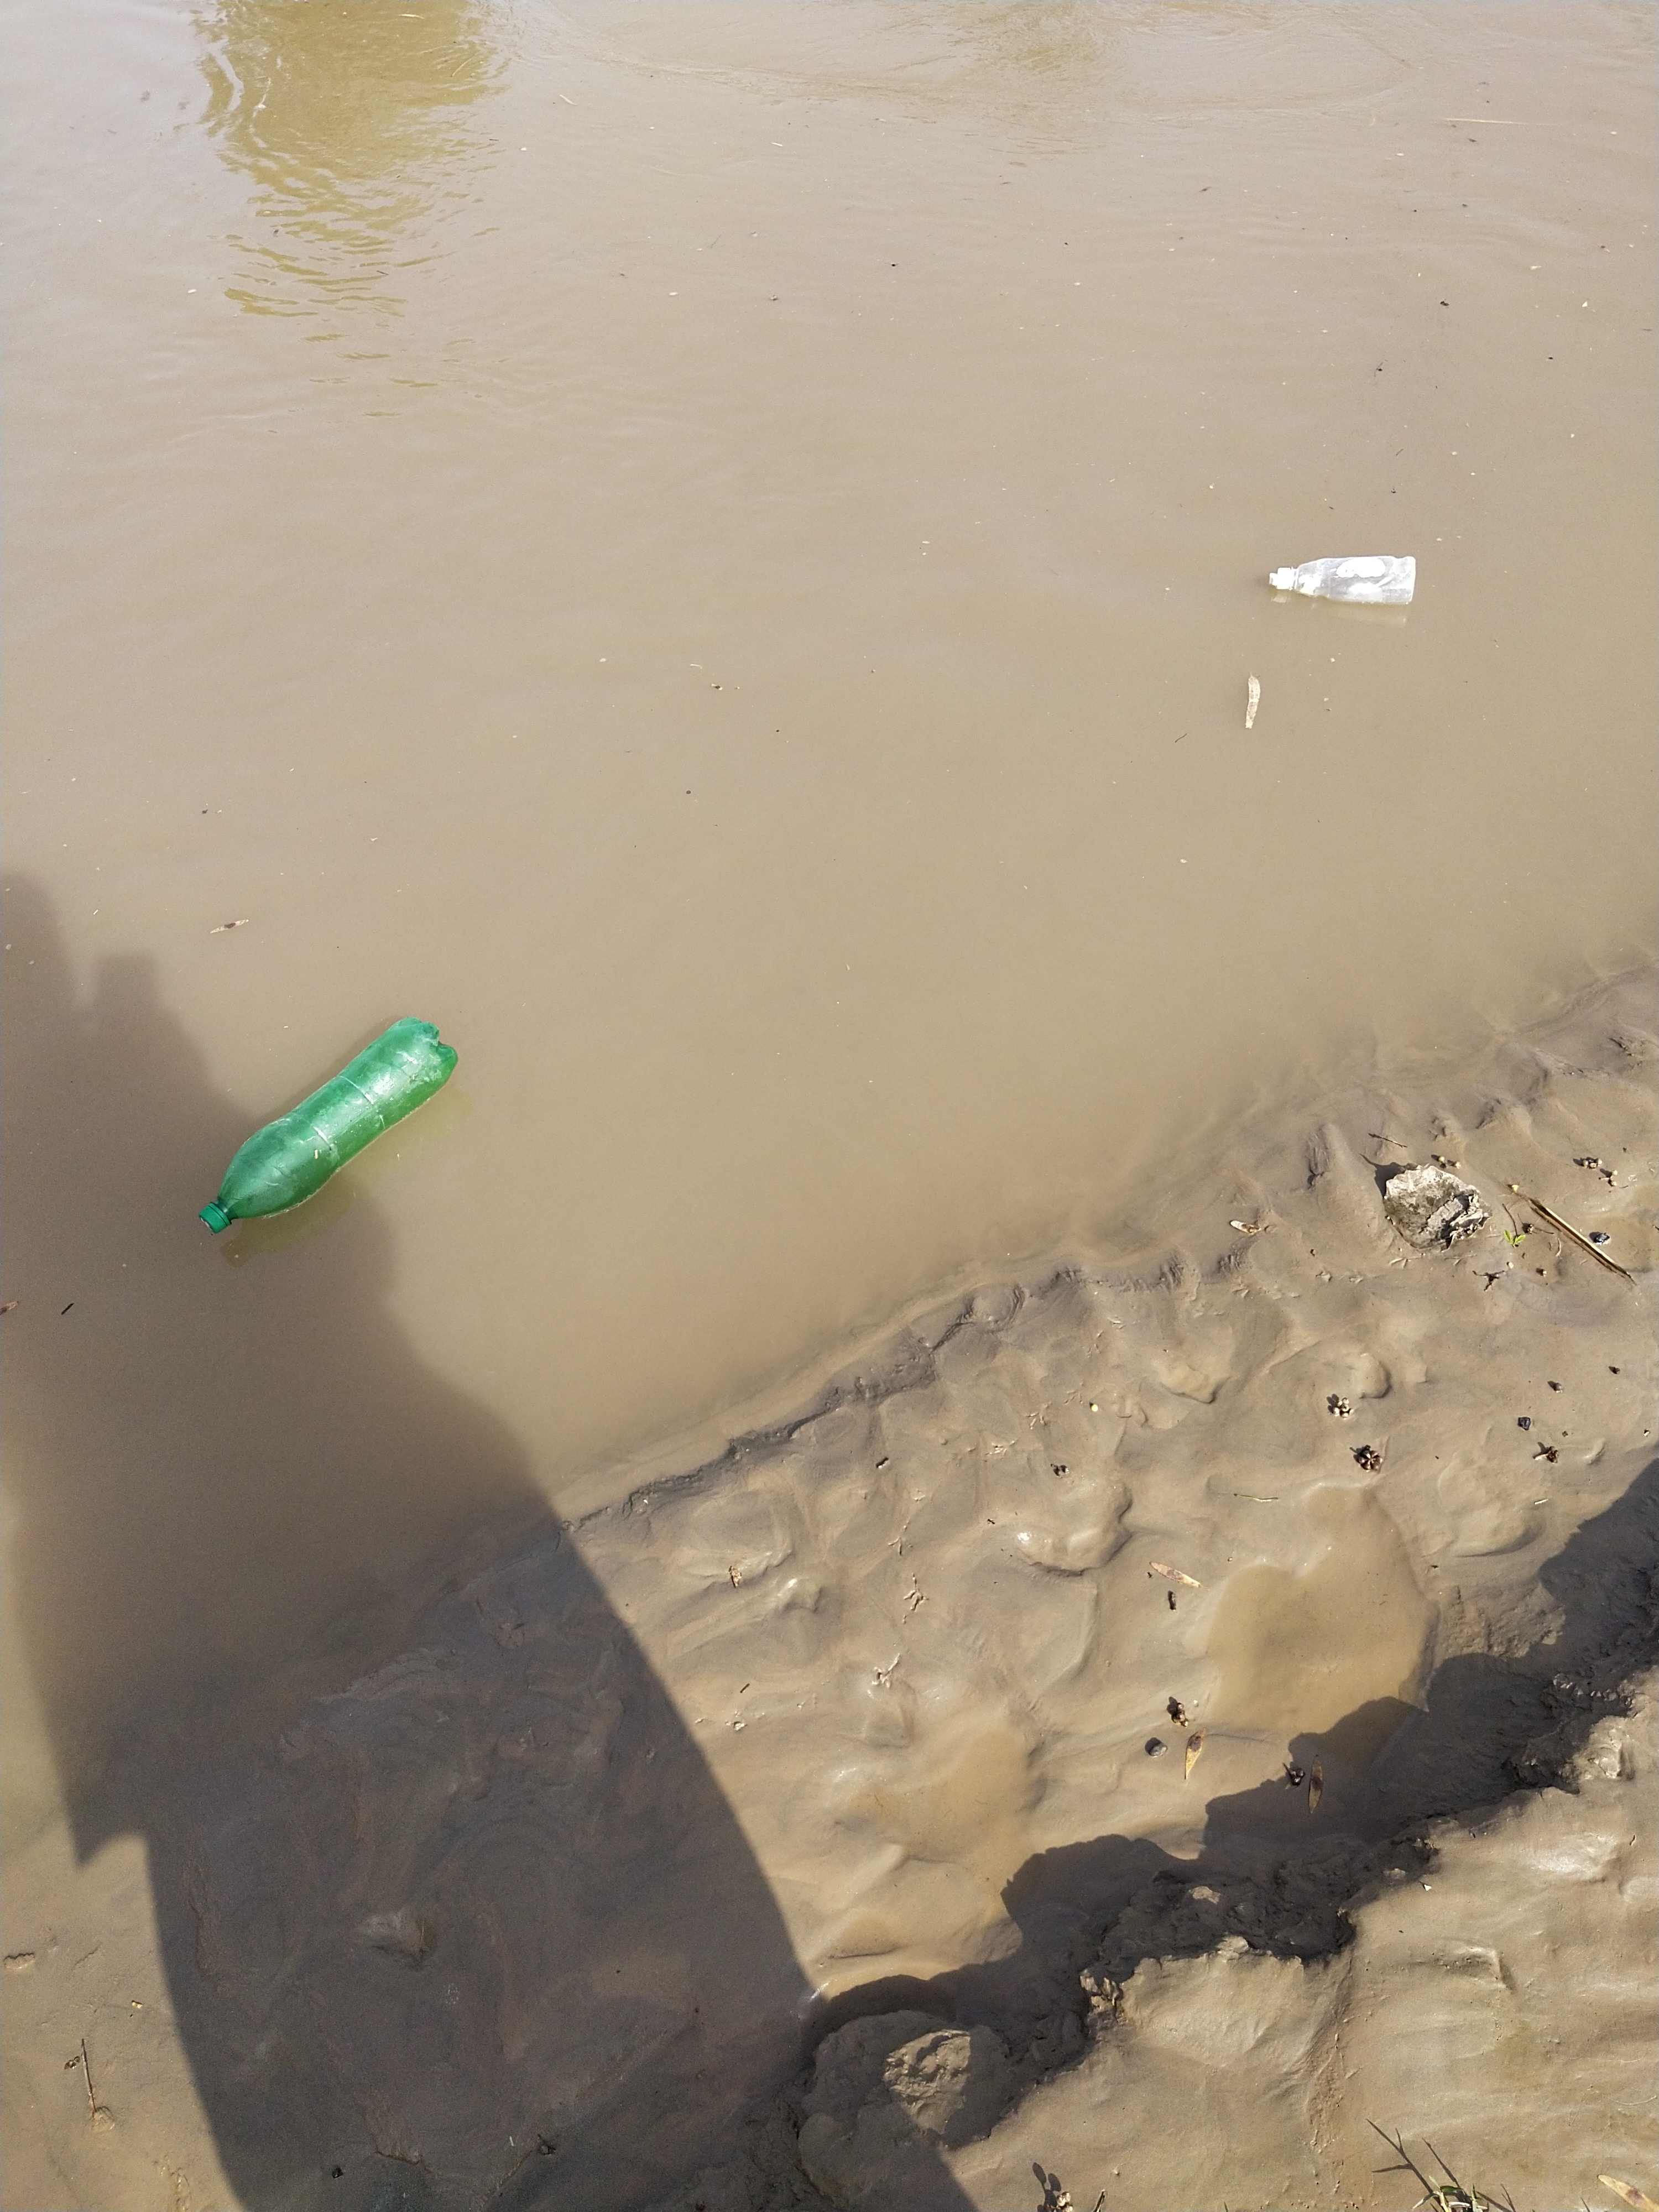Plastic Bottle: (199, 1017, 458, 1233), (1269, 556, 1417, 604)
